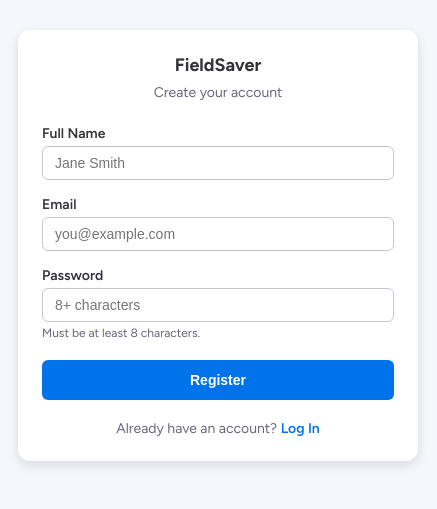
Test: RegisterPage › should show error when password is shorter than 8 characters
The image size is (437, 509).
Type "Jane" into the field with placeholder "Jane Smith" at (218, 162), box x1=42 y1=146 x2=394 y2=180
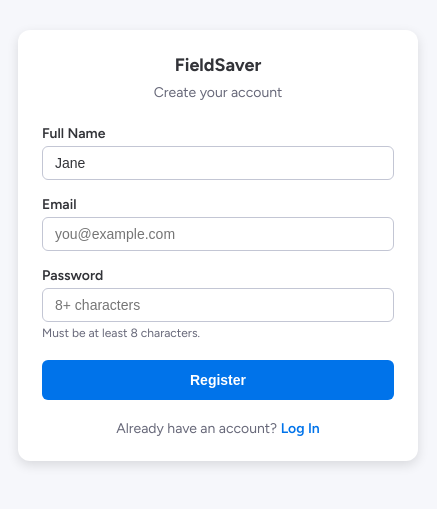
Type "jane@example.com" into the field with placeholder "you@example.com" at (218, 234), box x1=42 y1=216 x2=394 y2=250
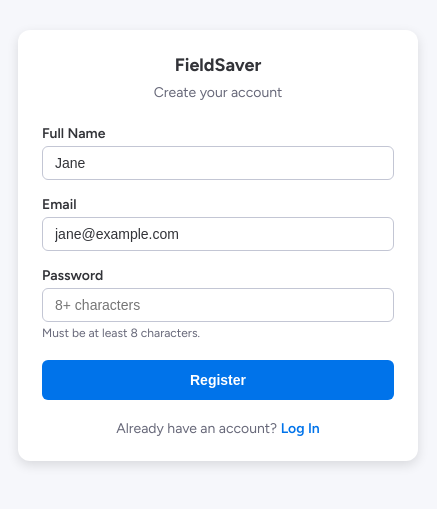
Type "short" into the password field with placeholder "8+ characters" at (218, 304), box x1=42 y1=288 x2=394 y2=322
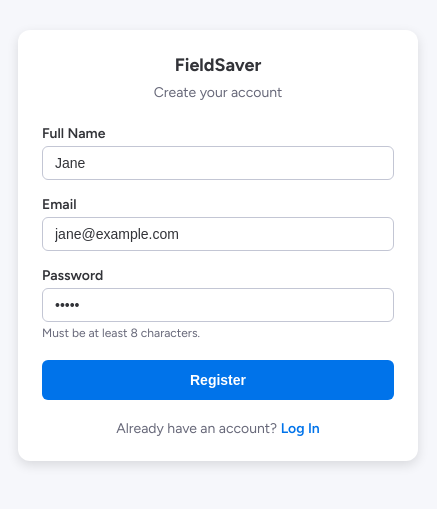
Click the button "Register" at (218, 380), box x1=42 y1=360 x2=394 y2=400
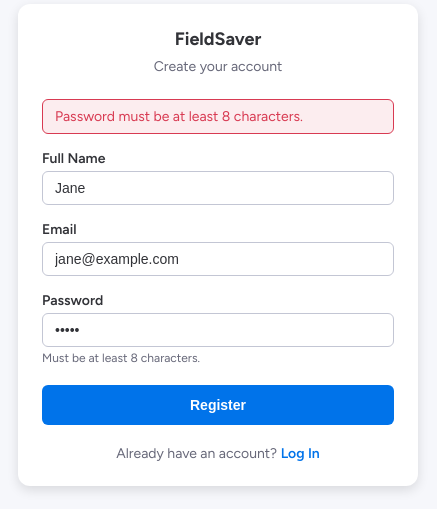
Expected: the text "Password must be at least 8 characters." is shown, x1=42 y1=99 x2=394 y2=134
